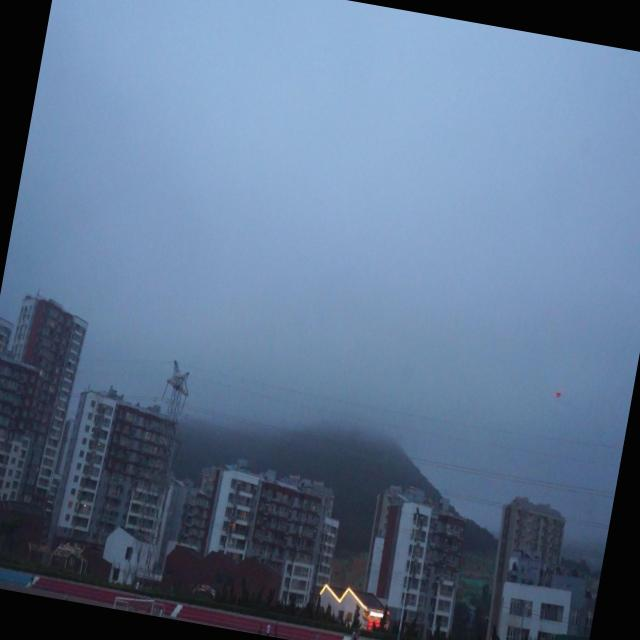drone: (550, 386, 566, 402)
